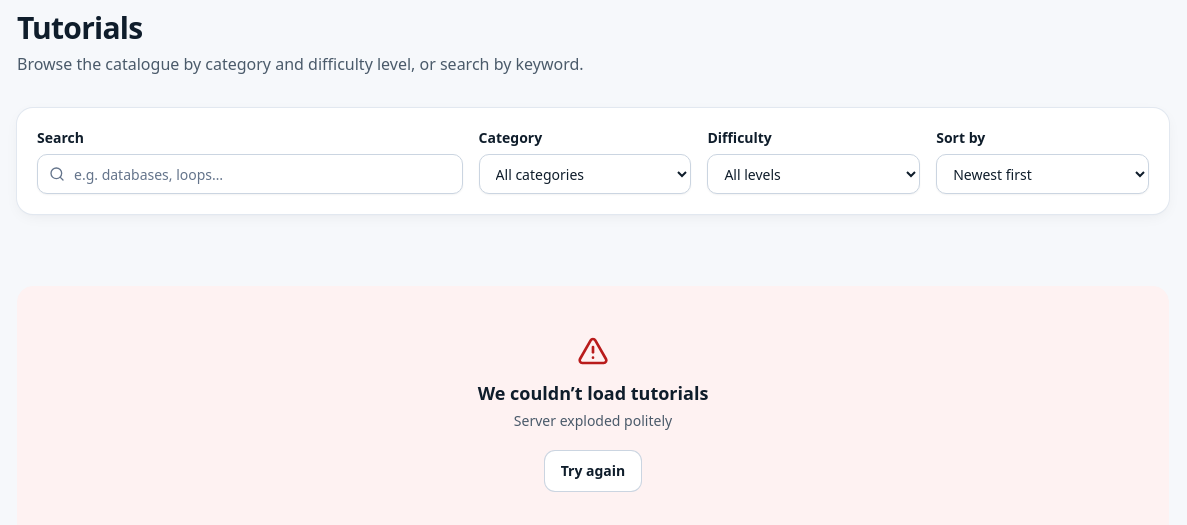
CatalogPage › shows an error state with a working retry
Check: the text "Server exploded politely" is shown, box [514, 411, 672, 431]
What coordinates should you click on to do the following:
click the button "Try again"
I would click on:
 (593, 471)
Its box is [545, 451, 641, 491].
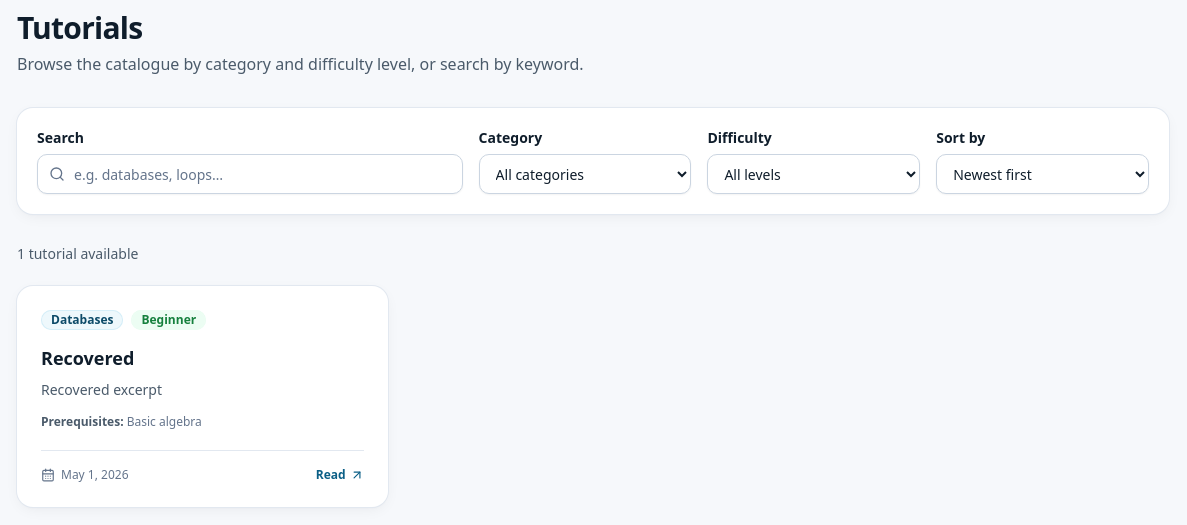
Check: the link "Recovered" is shown, box [41, 346, 134, 370]
